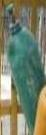cylinder: (1, 1, 46, 135)
